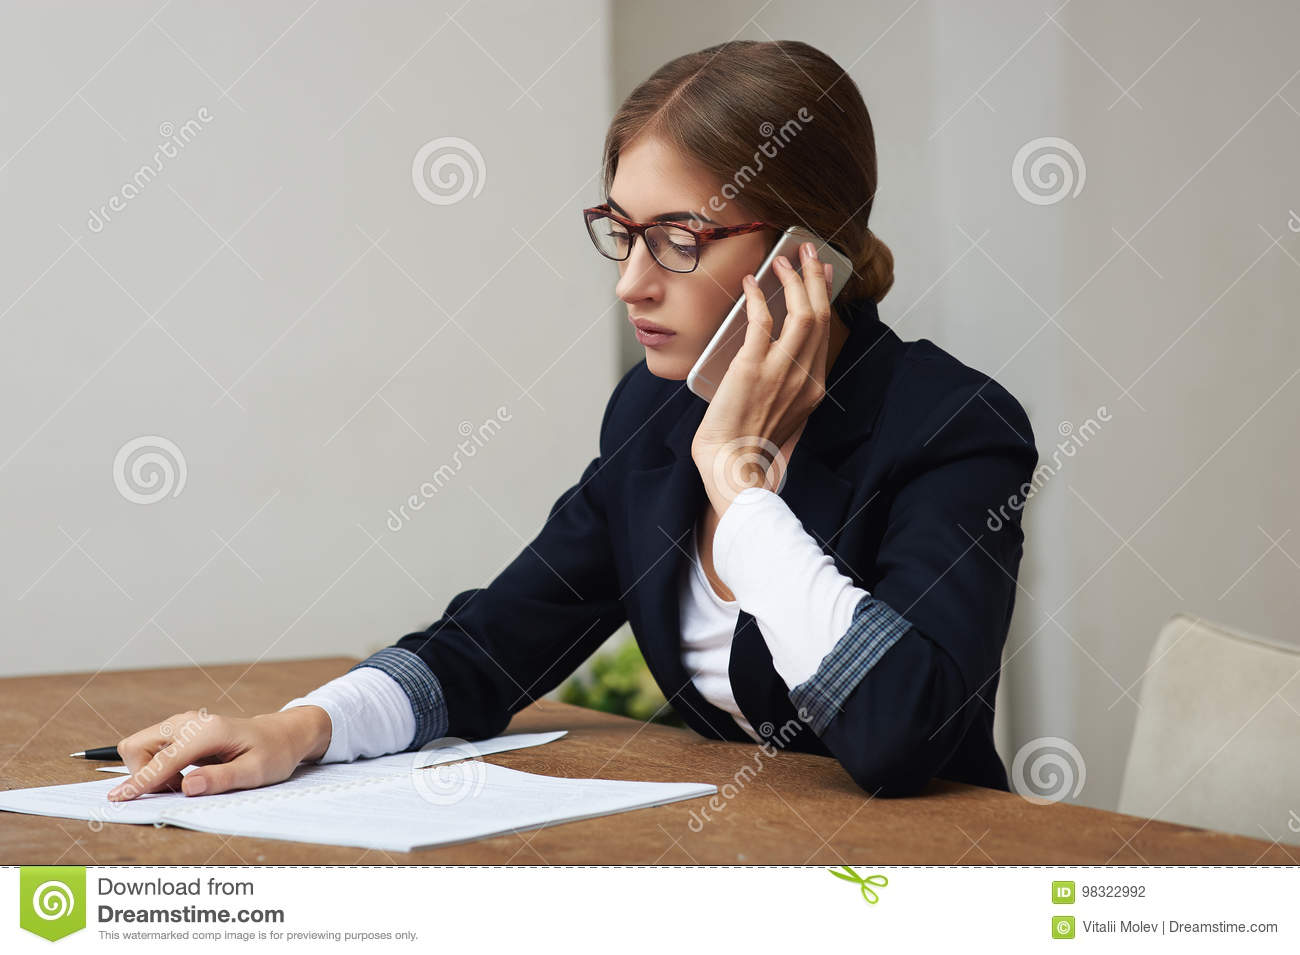phone: (689, 225, 853, 416)
talk: (597, 194, 853, 491)
